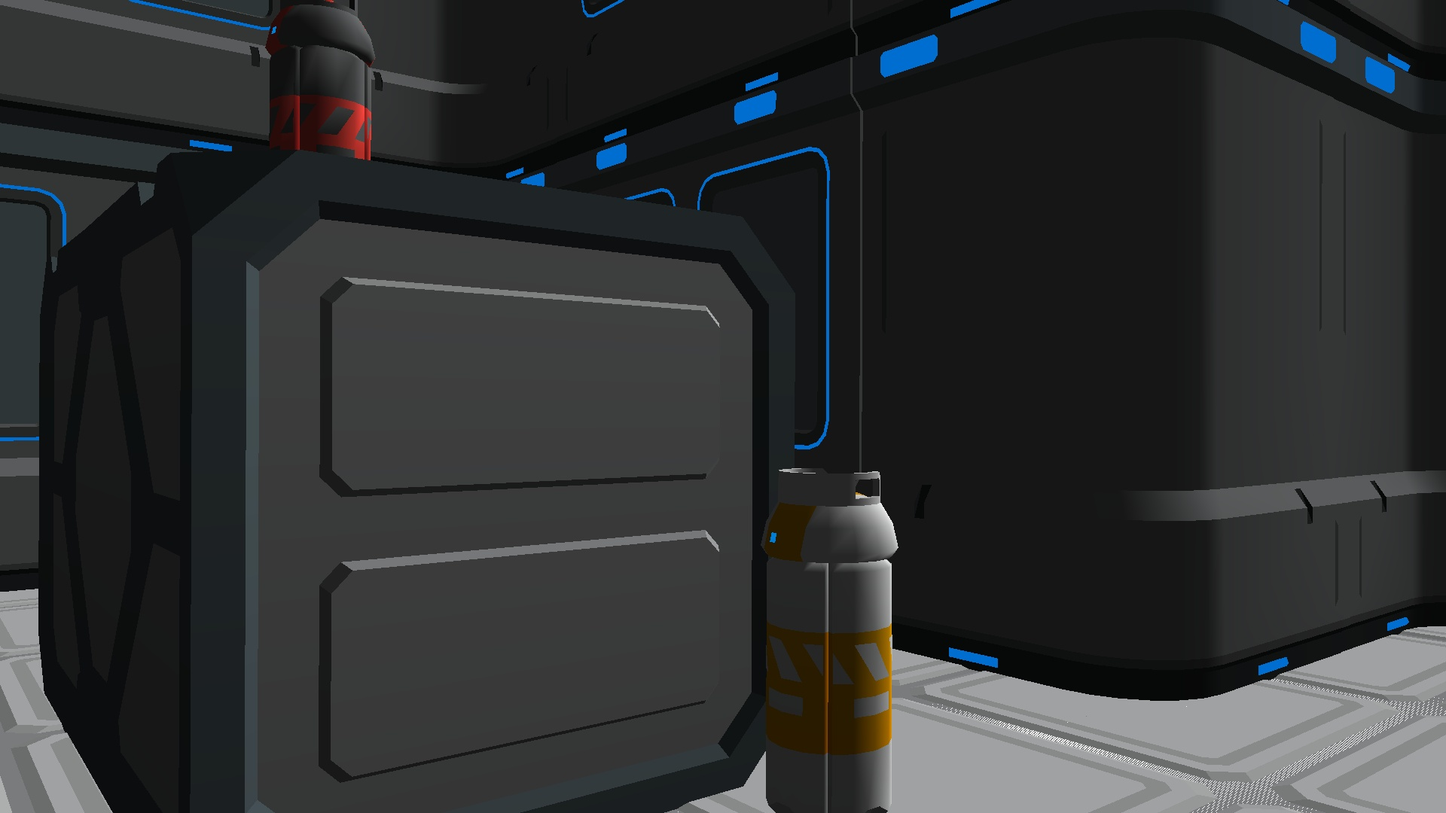red barrel: (265, 0, 376, 161)
yellow barrel: (760, 468, 899, 813)
